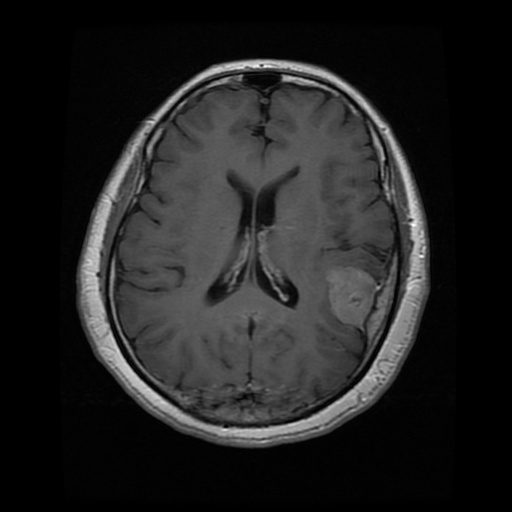meningioma: (326, 265, 374, 327)
